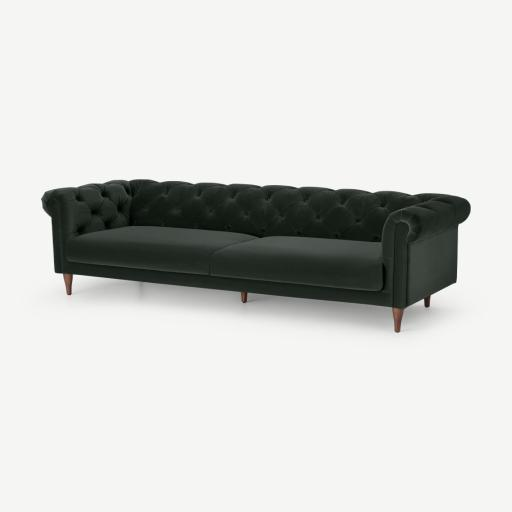back_cushion: (130, 180, 423, 241)
base: (69, 264, 390, 306)
left_arm: (393, 227, 457, 307)
legs: (393, 307, 404, 332), (63, 274, 73, 295), (241, 292, 247, 303), (424, 296, 430, 307)
right_arm: (42, 181, 131, 236)
seat_cushion: (66, 226, 381, 287)
two-seater: (0, 0, 511, 512)
